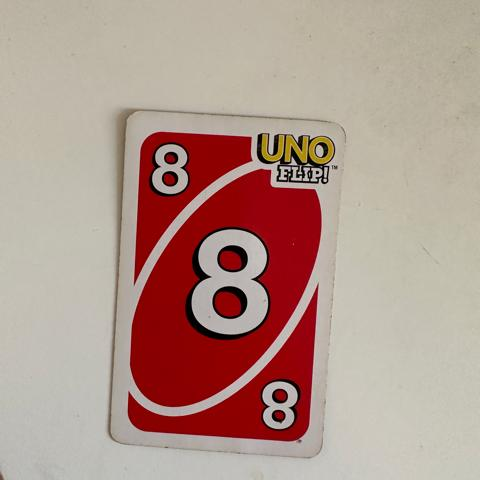0_red: (181, 226, 274, 340), (256, 379, 302, 434), (148, 142, 189, 200)
